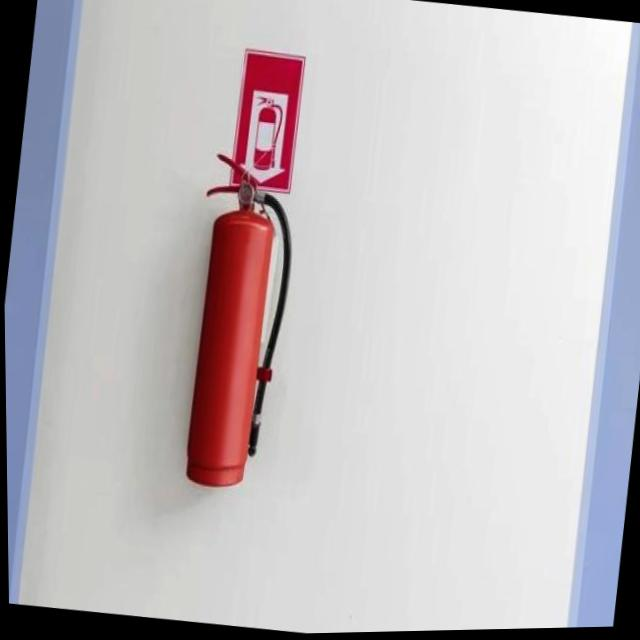FireExtinguisher: (164, 139, 308, 499)
